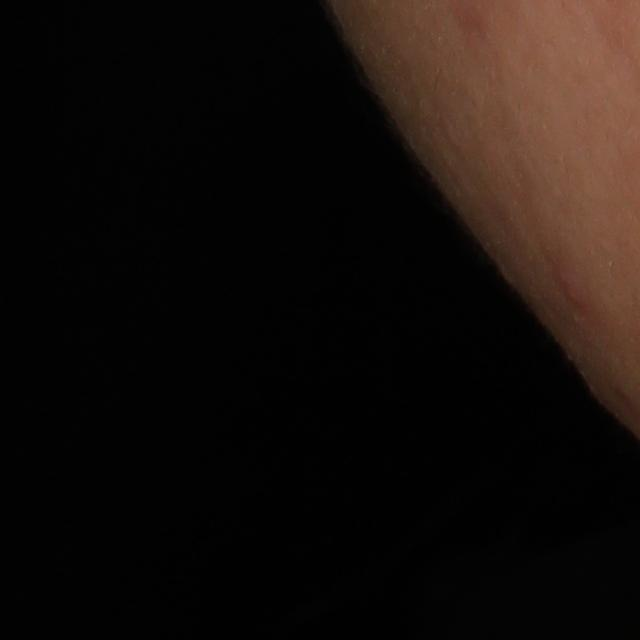papule: (558, 273, 589, 314)
